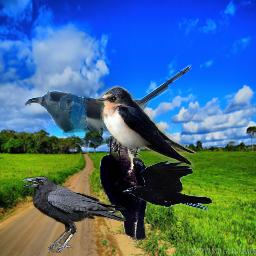Crow: (22, 176, 126, 253), (99, 135, 148, 244), (123, 161, 213, 211)
Cuckoo: (25, 64, 196, 149)
Swallow: (96, 85, 196, 168)
